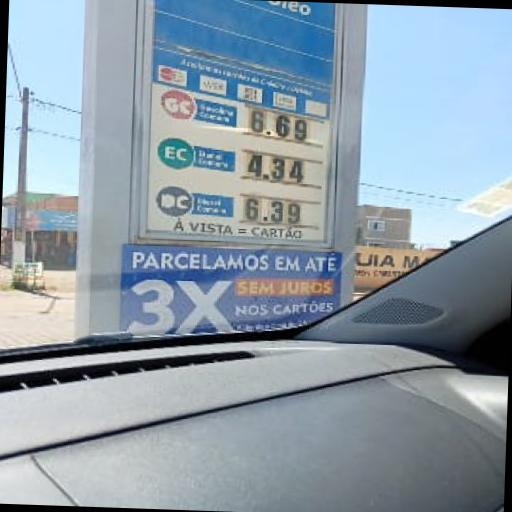ETANOL: (153, 132, 237, 178)
GASOLINA C: (162, 87, 239, 135)
S500: (153, 183, 236, 223)
placa: (149, 84, 327, 241)
preco: (243, 104, 311, 147), (238, 148, 309, 188), (241, 195, 305, 228)
